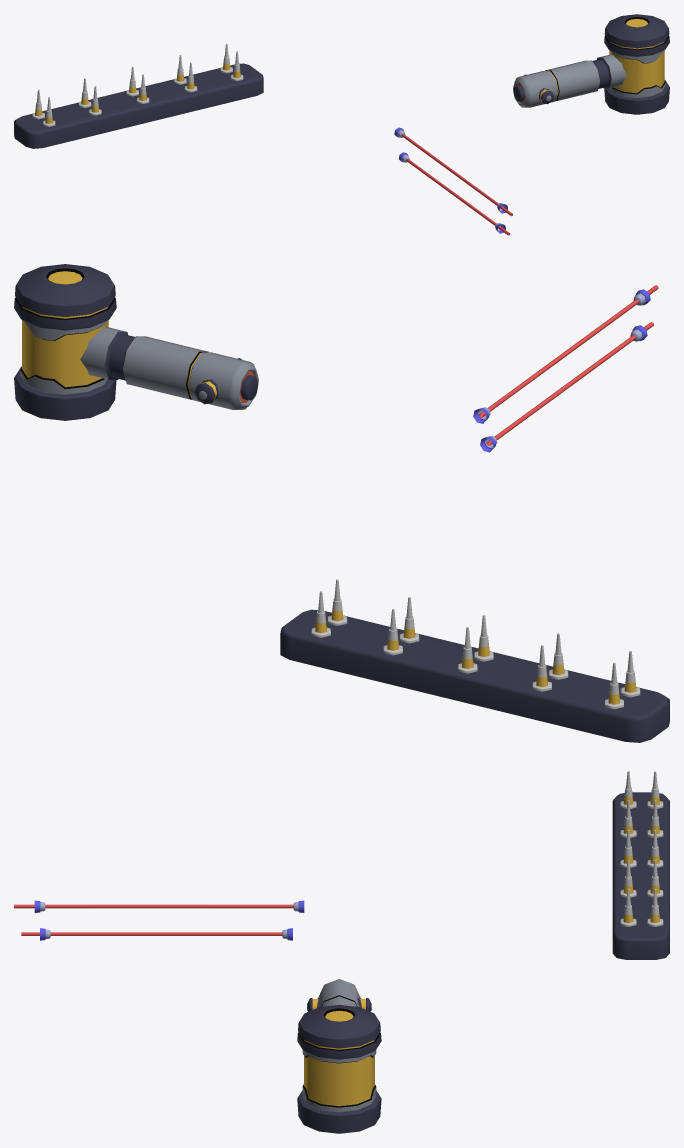
The model's file is Level18_Objects.fbx.
The picture shows the model from 3 angles, top to bottom: view 1: azimuth 30°, elevation 25°; view 2: azimuth 150°, elevation 25°; view 3: azimuth 270°, elevation 25°; orthographic projection. The views are drawn at different scales.
Parts seen in each view (by area): view 1: Base, pCylinder13, pCylinder14, Laser (×2); view 2: Base, pCylinder13, pCylinder14, Laser (×2); view 3: pCylinder13, Base, Laser (×2), pCylinder14.
Boxes of the visible parts, <box> form: Base: <box>14,63,263,148</box>; pCylinder13: <box>604,14,669,114</box>; pCylinder14: <box>513,54,627,107</box>; Laser (×2): <box>401,134,512,235</box>; Base: <box>280,609,669,742</box>; pCylinder13: <box>14,264,116,420</box>; pCylinder14: <box>80,327,258,409</box>; Laser (×2): <box>479,285,658,445</box>; pCylinder13: <box>297,1005,381,1133</box>; Base: <box>612,792,669,959</box>; Laser (×2): <box>14,904,293,935</box>; pCylinder14: <box>318,979,360,1006</box>.
Bounding box in the file's own units: 224 × 34.53 × 188.
